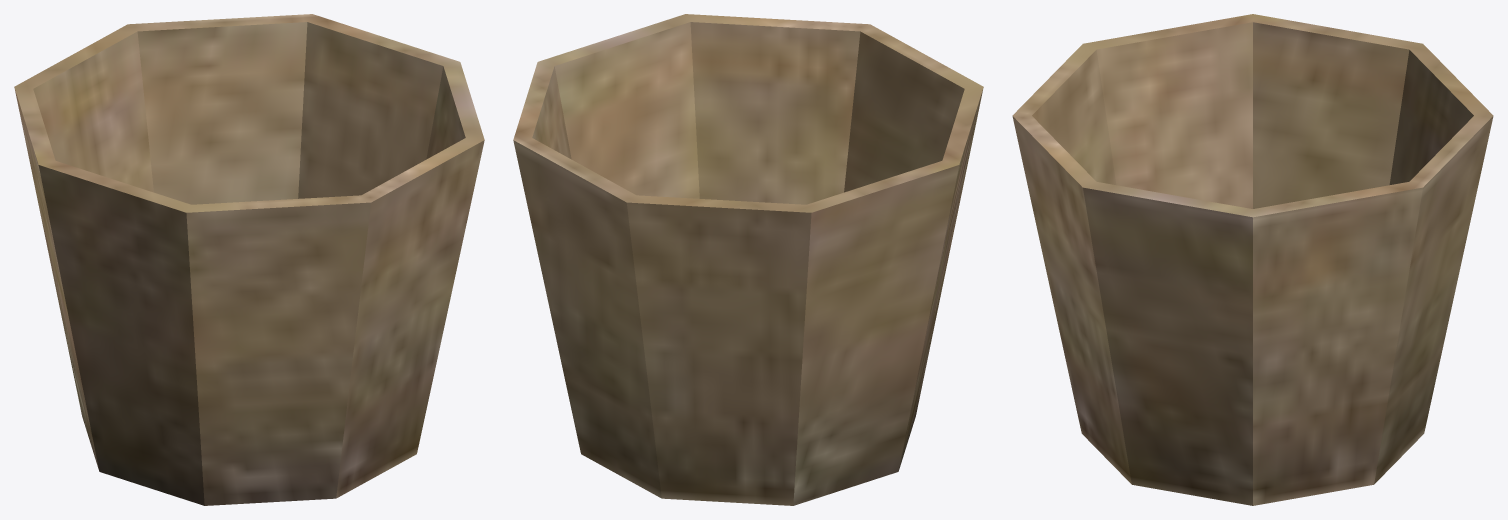
The model's file is basket of rice.fbx.
3 views of the same model, side by side, from view 1: azimuth 30°, elevation 25°; view 2: azimuth 150°, elevation 25°; view 3: azimuth 270°, elevation 25° (orthographic).
Visible parts, largest first — view 1: basket of rice; view 2: basket of rice; view 3: basket of rice.
Boxes of the visible parts, bbox=[...] form: basket of rice: bbox=[14, 14, 484, 505]; basket of rice: bbox=[513, 14, 983, 505]; basket of rice: bbox=[1012, 14, 1493, 505].
Size of the model in its own units: 167 by 122 by 167.
